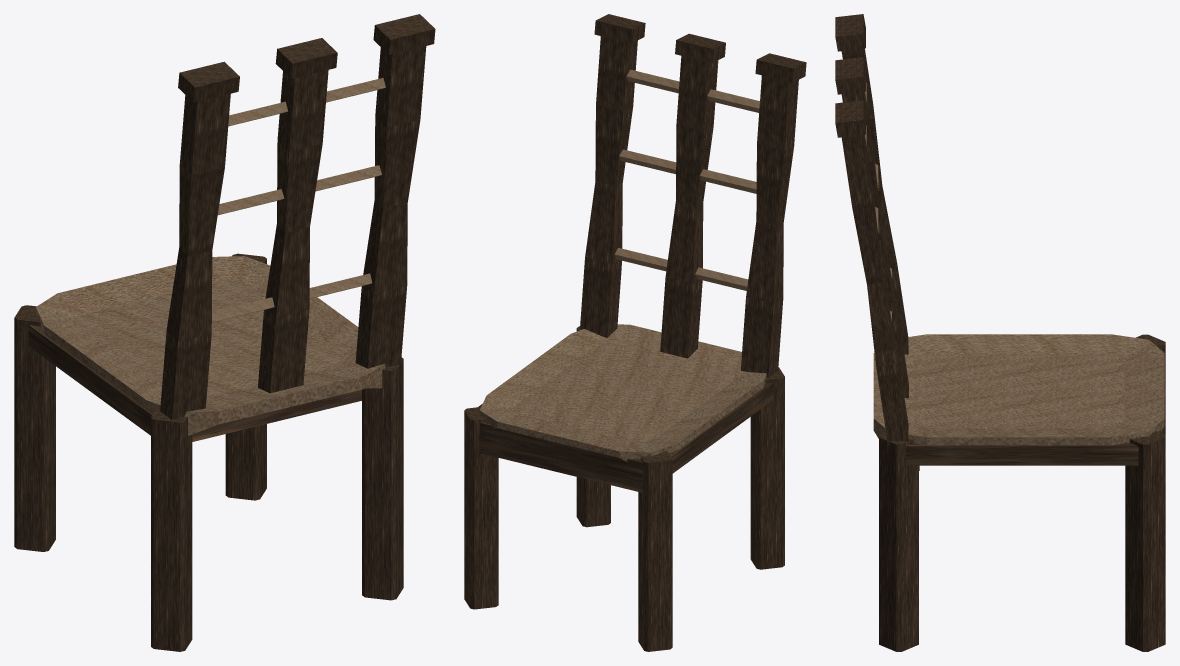
File: texturedChair.glb
3 renders of one model, left to right at view 1: azimuth 30°, elevation 25°; view 2: azimuth 150°, elevation 25°; view 3: azimuth 270°, elevation 25°, orthographic. The views are drawn at different scales.
Visible parts, largest first — view 1: Cube.003, Cube.002, Cube.001, Cube.007, Cube.008, Cube.005, Cube.006, Cube.004; view 2: Cube.003, Cube.001, Cube.002, Cube.008, Cube.007, Cube.005, Cube.004, Cube.006; view 3: Cube.001, Cube.002, Cube.003, Cube.007.
Part boxes in pixels (x1,y1,x2,y2): Cube.003: (160, 14, 435, 419); Cube.002: (14, 253, 403, 651); Cube.001: (35, 256, 385, 435); Cube.007: (28, 325, 153, 435); Cube.008: (192, 389, 361, 441); Cube.005: (217, 165, 381, 215); Cube.006: (212, 273, 372, 322); Cube.004: (228, 78, 385, 126); Cube.003: (580, 14, 806, 377); Cube.001: (479, 324, 766, 461); Cube.002: (464, 326, 784, 651); Cube.008: (480, 422, 642, 492); Cube.007: (478, 382, 773, 473); Cube.005: (619, 149, 756, 193); Cube.004: (626, 69, 759, 112); Cube.006: (614, 247, 748, 290); Cube.001: (873, 334, 1164, 445); Cube.002: (879, 334, 1165, 651); Cube.003: (835, 14, 908, 445); Cube.007: (906, 443, 1138, 465).
Bounding box in the file's own units: 1.18 × 2.65 × 1.5.
2 materials, 2 textured.
